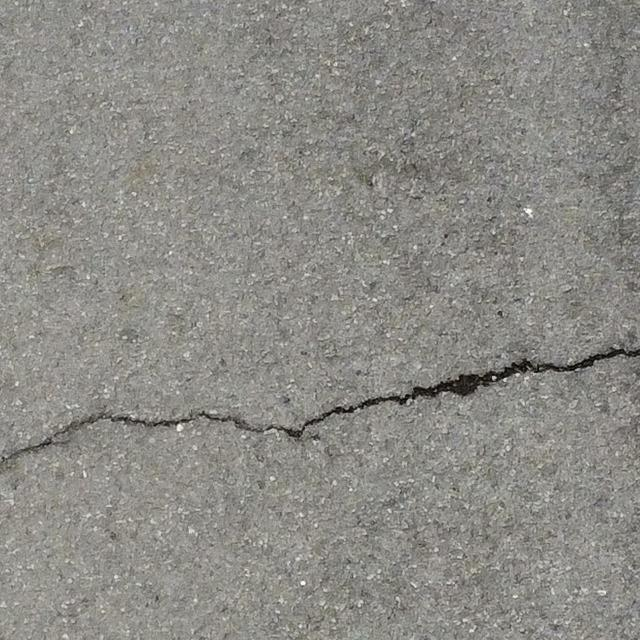TransverseCrack: (1, 347, 640, 465)
